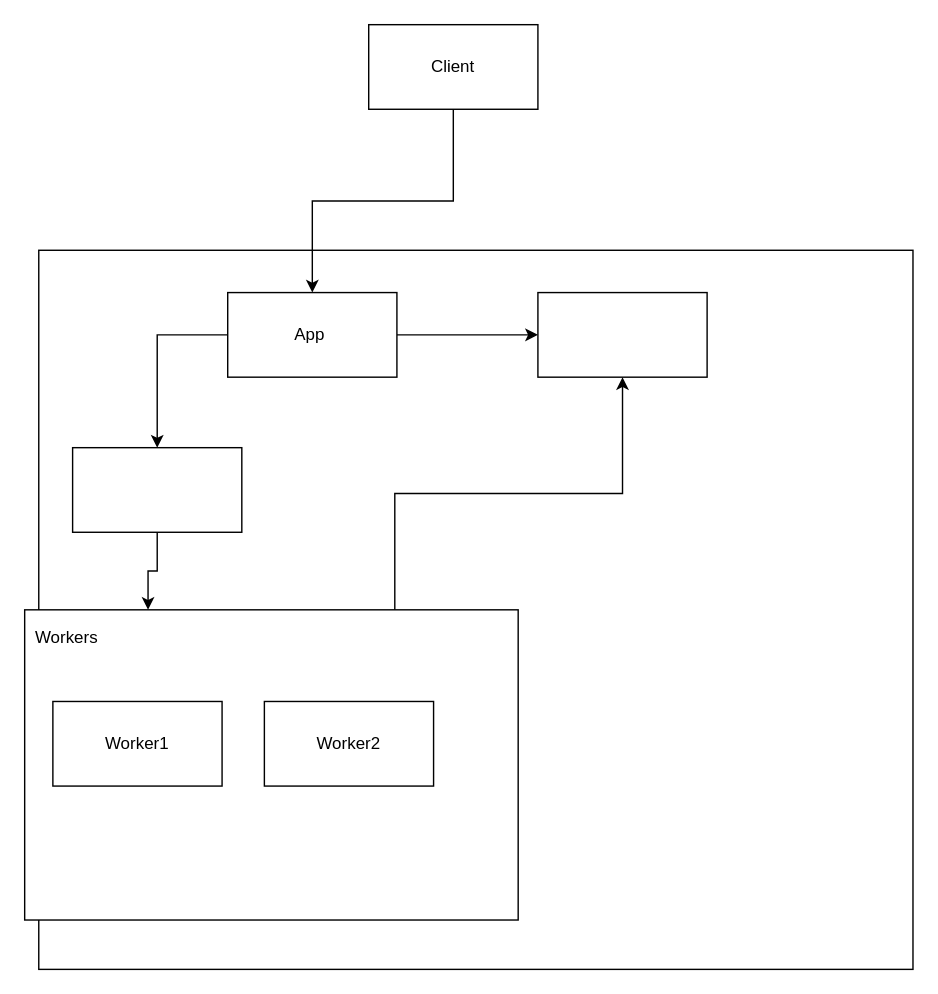
Some shapes in this 938 by 994 pixel diagram are drawn without their labels. Here are the shapes that lost their labels. From the top down, the centre of each, then its label:
At point (622, 334): "MongoDB".
At point (156, 489): "Queue".
